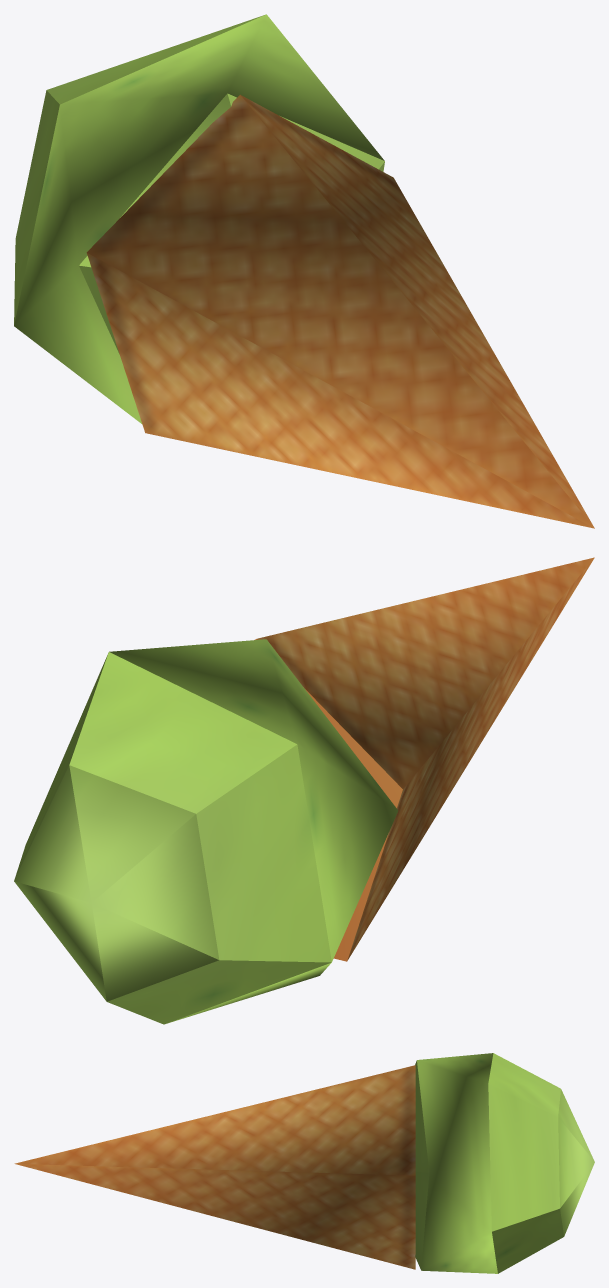
File: IceCream_Cone_2.fbx
3 renders of one model, top to bottom at view 1: azimuth 30°, elevation 25°; view 2: azimuth 150°, elevation 25°; view 3: azimuth 270°, elevation 25°, orthographic. The views are drawn at different scales.
Parts seen in each view (by area): view 1: IceCream_Cone_2; view 2: IceCream_Cone_2; view 3: IceCream_Cone_2.
Boxes of the visible parts, left/top/right/bottom form: IceCream_Cone_2: left=14, top=14, right=594, bottom=528; IceCream_Cone_2: left=14, top=557, right=594, bottom=1024; IceCream_Cone_2: left=14, top=1053, right=594, bottom=1273.
Bounding box in the file's own units: 73.48 × 78.43 × 198.
